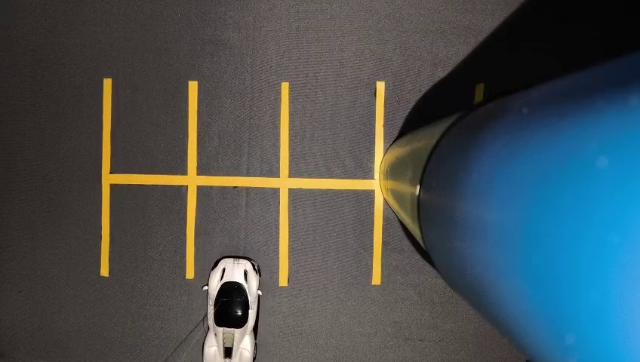toy_car: (190, 244, 278, 362)
